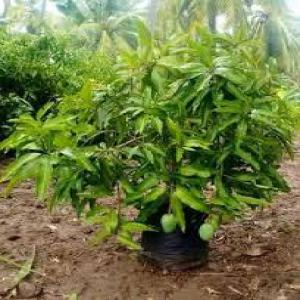Tree: (5, 13, 298, 274)
